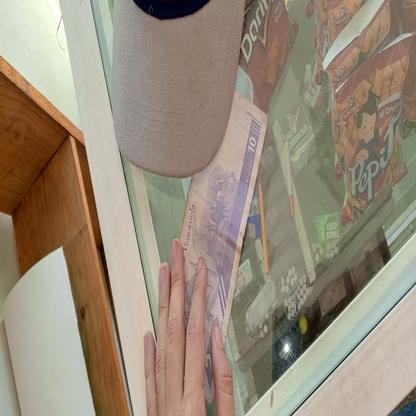ten-back-vef: (148, 87, 272, 404)
